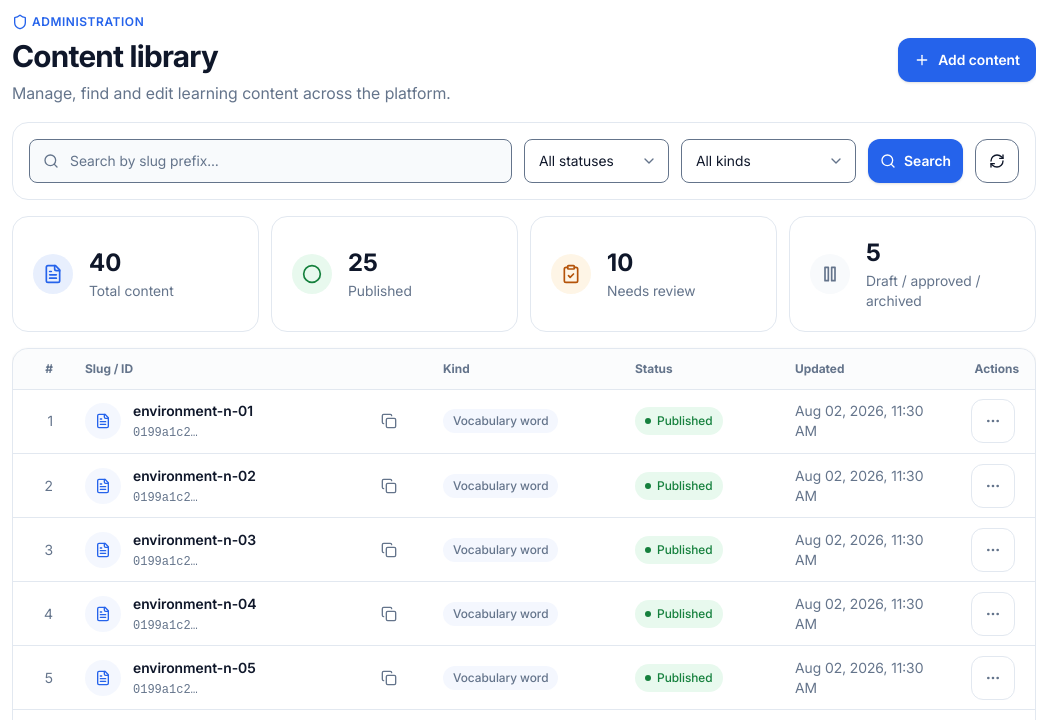
Test: content library › submits a slug-prefix search once and resets it without pretending to search titles or ids
In the search field: {"x": 270, "y": 160} [29,138,512,182], type "environment-n-3"
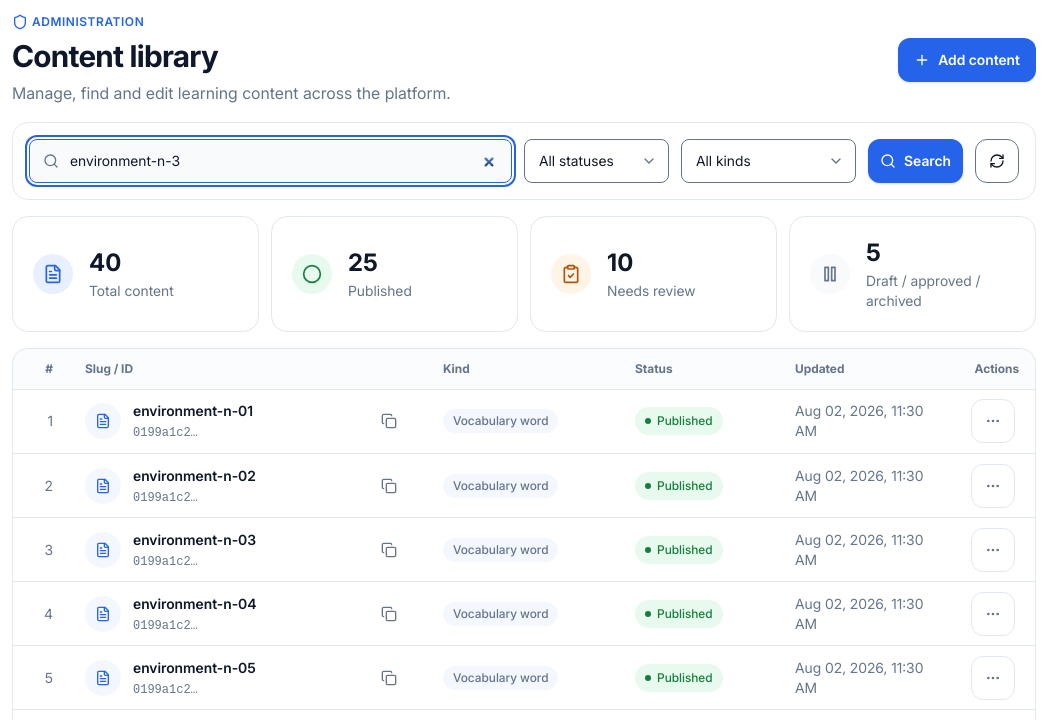
Click the button "Search": {"x": 916, "y": 160} [868,138,963,182]
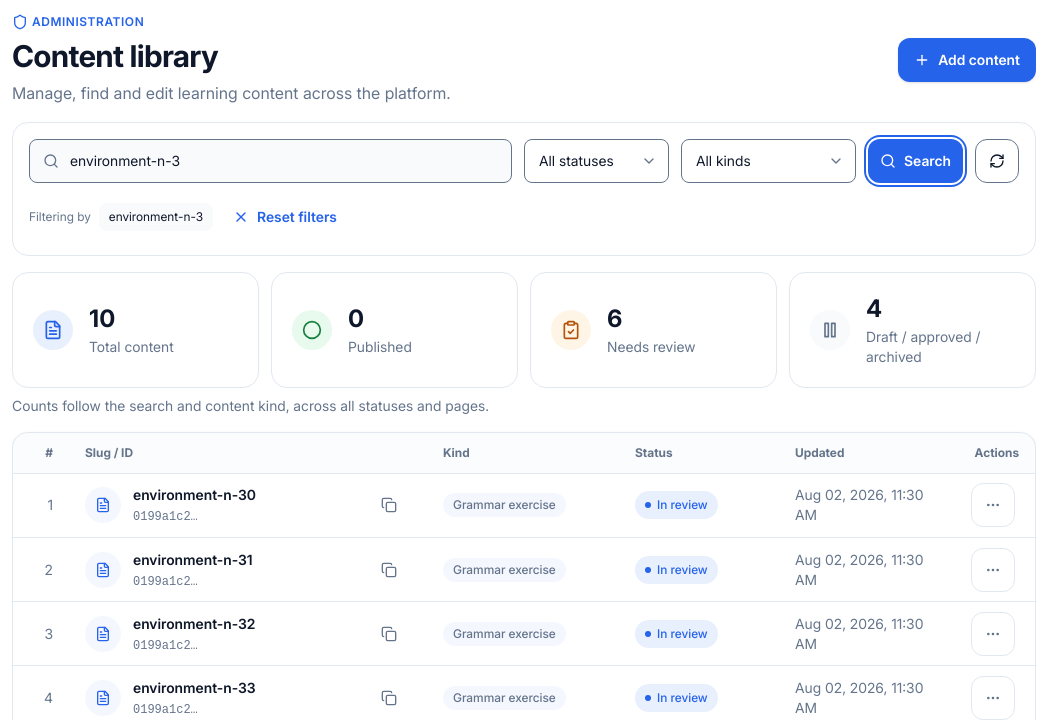
Check: the text with test id "content-stat-total" reads "10", box [89,304,115,332]
Click the button "Reset filters": {"x": 285, "y": 216} [221,194,349,238]
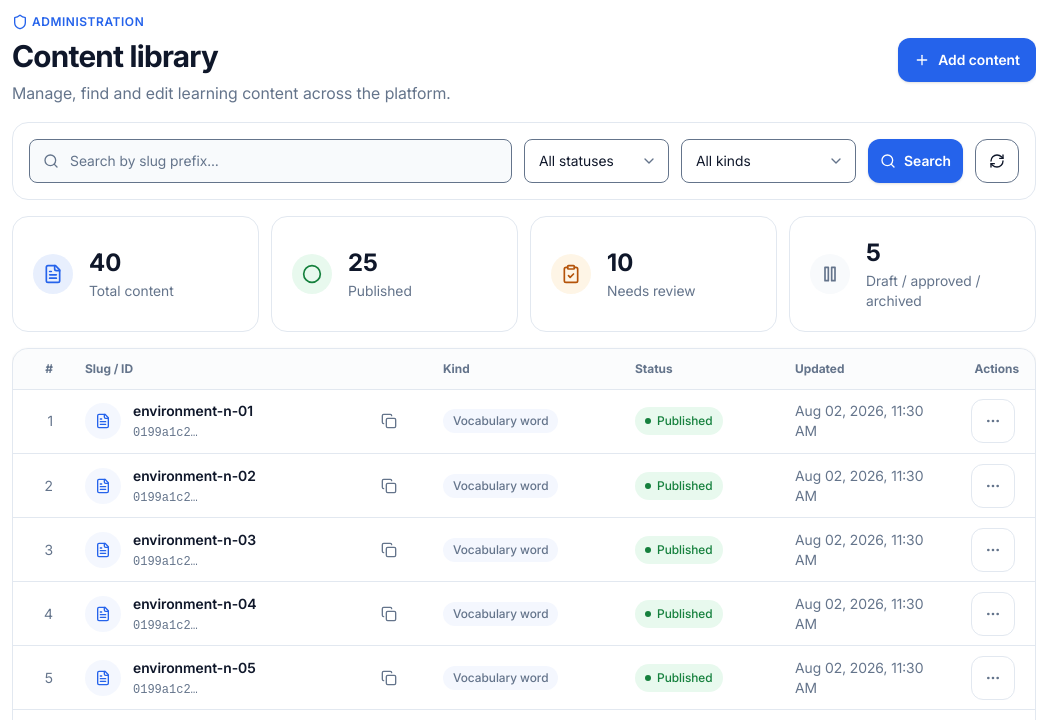
Check: the text with test id "content-stat-total" reads "40", box [89,248,121,276]
Check: the search field is empty, box [29,138,512,182]
